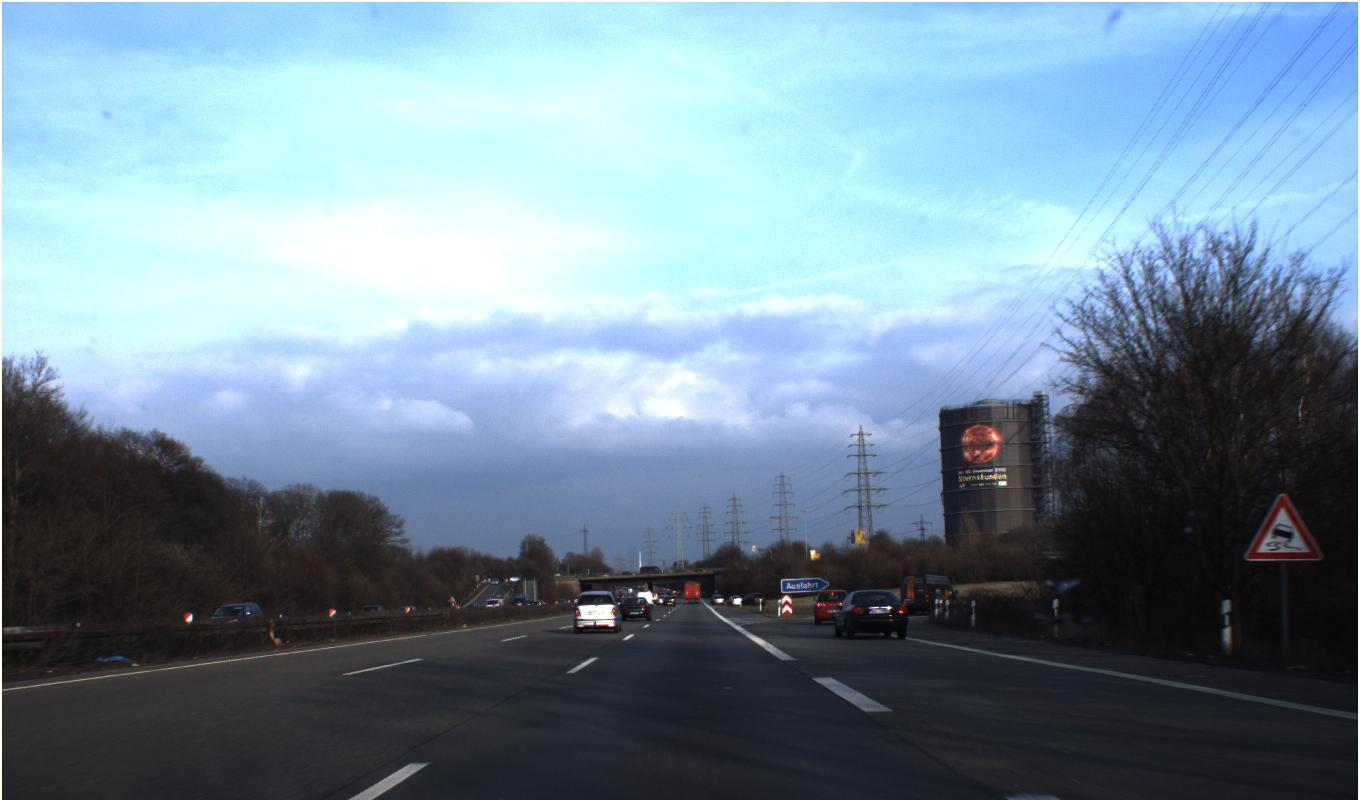danger: (1243, 492, 1324, 562)
